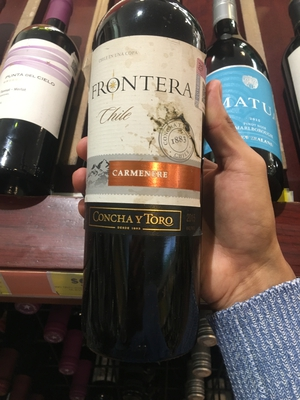frontera carmenere: (72, 1, 208, 363)
